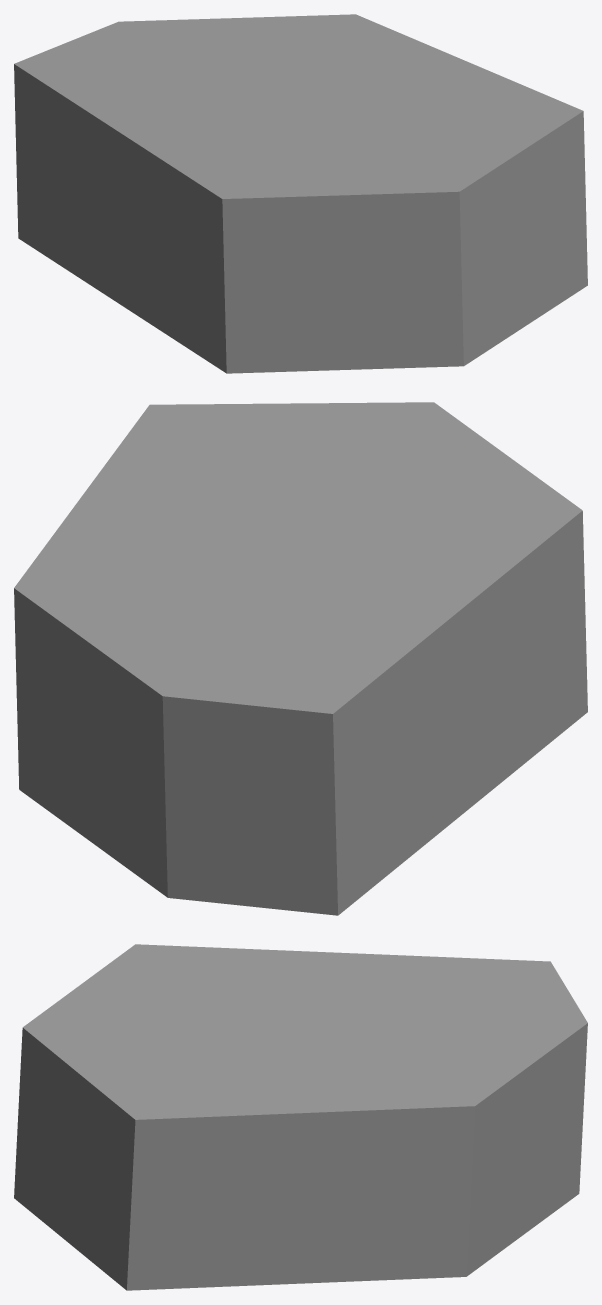
Rendered from rock3.fbx.
3 renders of one model, top to bottom at view 1: azimuth 30°, elevation 25°; view 2: azimuth 150°, elevation 25°; view 3: azimuth 270°, elevation 25°, orthographic. The views are drawn at different scales.
Visible parts, largest first — view 1: rock3; view 2: rock3; view 3: rock3.
Boxes of the visible parts, <box> form: rock3: <box>14,14,587,373</box>; rock3: <box>14,402,587,915</box>; rock3: <box>14,944,587,1290</box>.
Bounding box in the file's own units: 138 × 71.03 × 190.
